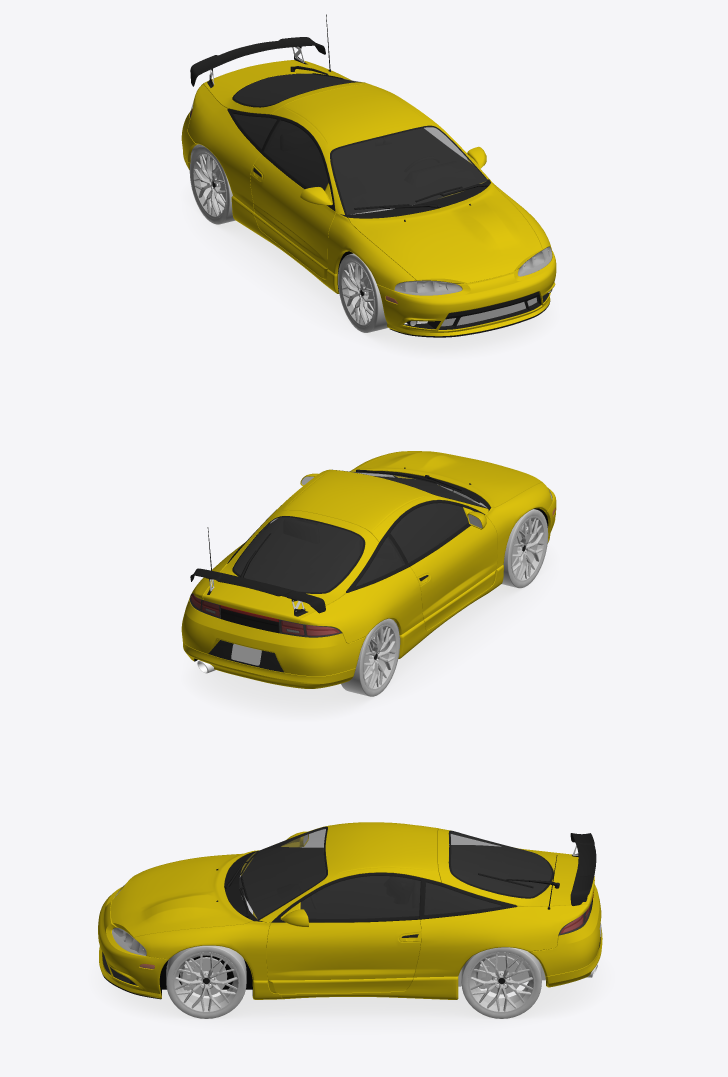
3 views of the same model, one above another, from view 1: azimuth 30°, elevation 25°; view 2: azimuth 150°, elevation 25°; view 3: azimuth 270°, elevation 25° (orthographic).
Parts seen in each view (by area): view 1: Body, Glass, Interior, Details, Shadow, WH_RR_Azura_Alloy_0, WH_FR_Azura_Alloy_0, WH_FR_Azura_Tire_0, WH_RR_Azura_Tire_0; view 2: Body, Glass, Interior, Shadow, Details, WH_RR_Azura_Alloy_0, WH_FR_Azura_Alloy_0, WH_RR_Azura_Tire_0, WH_FR_Azura_Tire_0; view 3: Body, Glass, Interior, Shadow, Details, WH_RL_Azura_Alloy_0, WH_FL_Azura_Alloy_0, WH_FL_Azura_Tire_0, WH_RL_Azura_Tire_0, WH_FL_Azura_Textures_0, WH_RL_Azura_Textures_0.
Boxes of the visible parts, left/top/right/bottom form: Body: left=181, top=60, right=556, bottom=336; Glass: left=191, top=73, right=552, bottom=325; Interior: left=233, top=74, right=486, bottom=214; Details: left=189, top=14, right=552, bottom=337; Shadow: left=187, top=187, right=552, bottom=356; WH_RR_Azura_Alloy_0: left=192, top=152, right=226, bottom=218; WH_FR_Azura_Alloy_0: left=340, top=260, right=374, bottom=326; WH_FR_Azura_Tire_0: left=338, top=253, right=388, bottom=332; WH_RR_Azura_Tire_0: left=189, top=145, right=235, bottom=224; Body: left=181, top=451, right=556, bottom=688; Glass: left=191, top=470, right=555, bottom=635; Interior: left=234, top=476, right=485, bottom=592; Shadow: left=187, top=548, right=552, bottom=718; Details: left=189, top=467, right=552, bottom=673; WH_RR_Azura_Alloy_0: left=363, top=624, right=397, bottom=690; WH_FR_Azura_Alloy_0: left=511, top=516, right=545, bottom=582; WH_RR_Azura_Tire_0: left=341, top=618, right=399, bottom=696; WH_FR_Azura_Tire_0: left=502, top=509, right=548, bottom=588; Body: left=98, top=822, right=602, bottom=999; Glass: left=112, top=828, right=593, bottom=968; Interior: left=239, top=827, right=551, bottom=919; Shadow: left=96, top=961, right=603, bottom=1027; Details: left=102, top=826, right=601, bottom=999; WH_RL_Azura_Alloy_0: left=468, top=952, right=535, bottom=1013; WH_FL_Azura_Alloy_0: left=172, top=952, right=240, bottom=1013; WH_FL_Azura_Tire_0: left=166, top=945, right=246, bottom=1018; WH_RL_Azura_Tire_0: left=461, top=947, right=541, bottom=1018; WH_FL_Azura_Textures_0: left=180, top=957, right=227, bottom=995; WH_RL_Azura_Textures_0: left=475, top=955, right=522, bottom=994.
Bounding box in the file's own units: 2.82 × 1.18 × 4.92.
